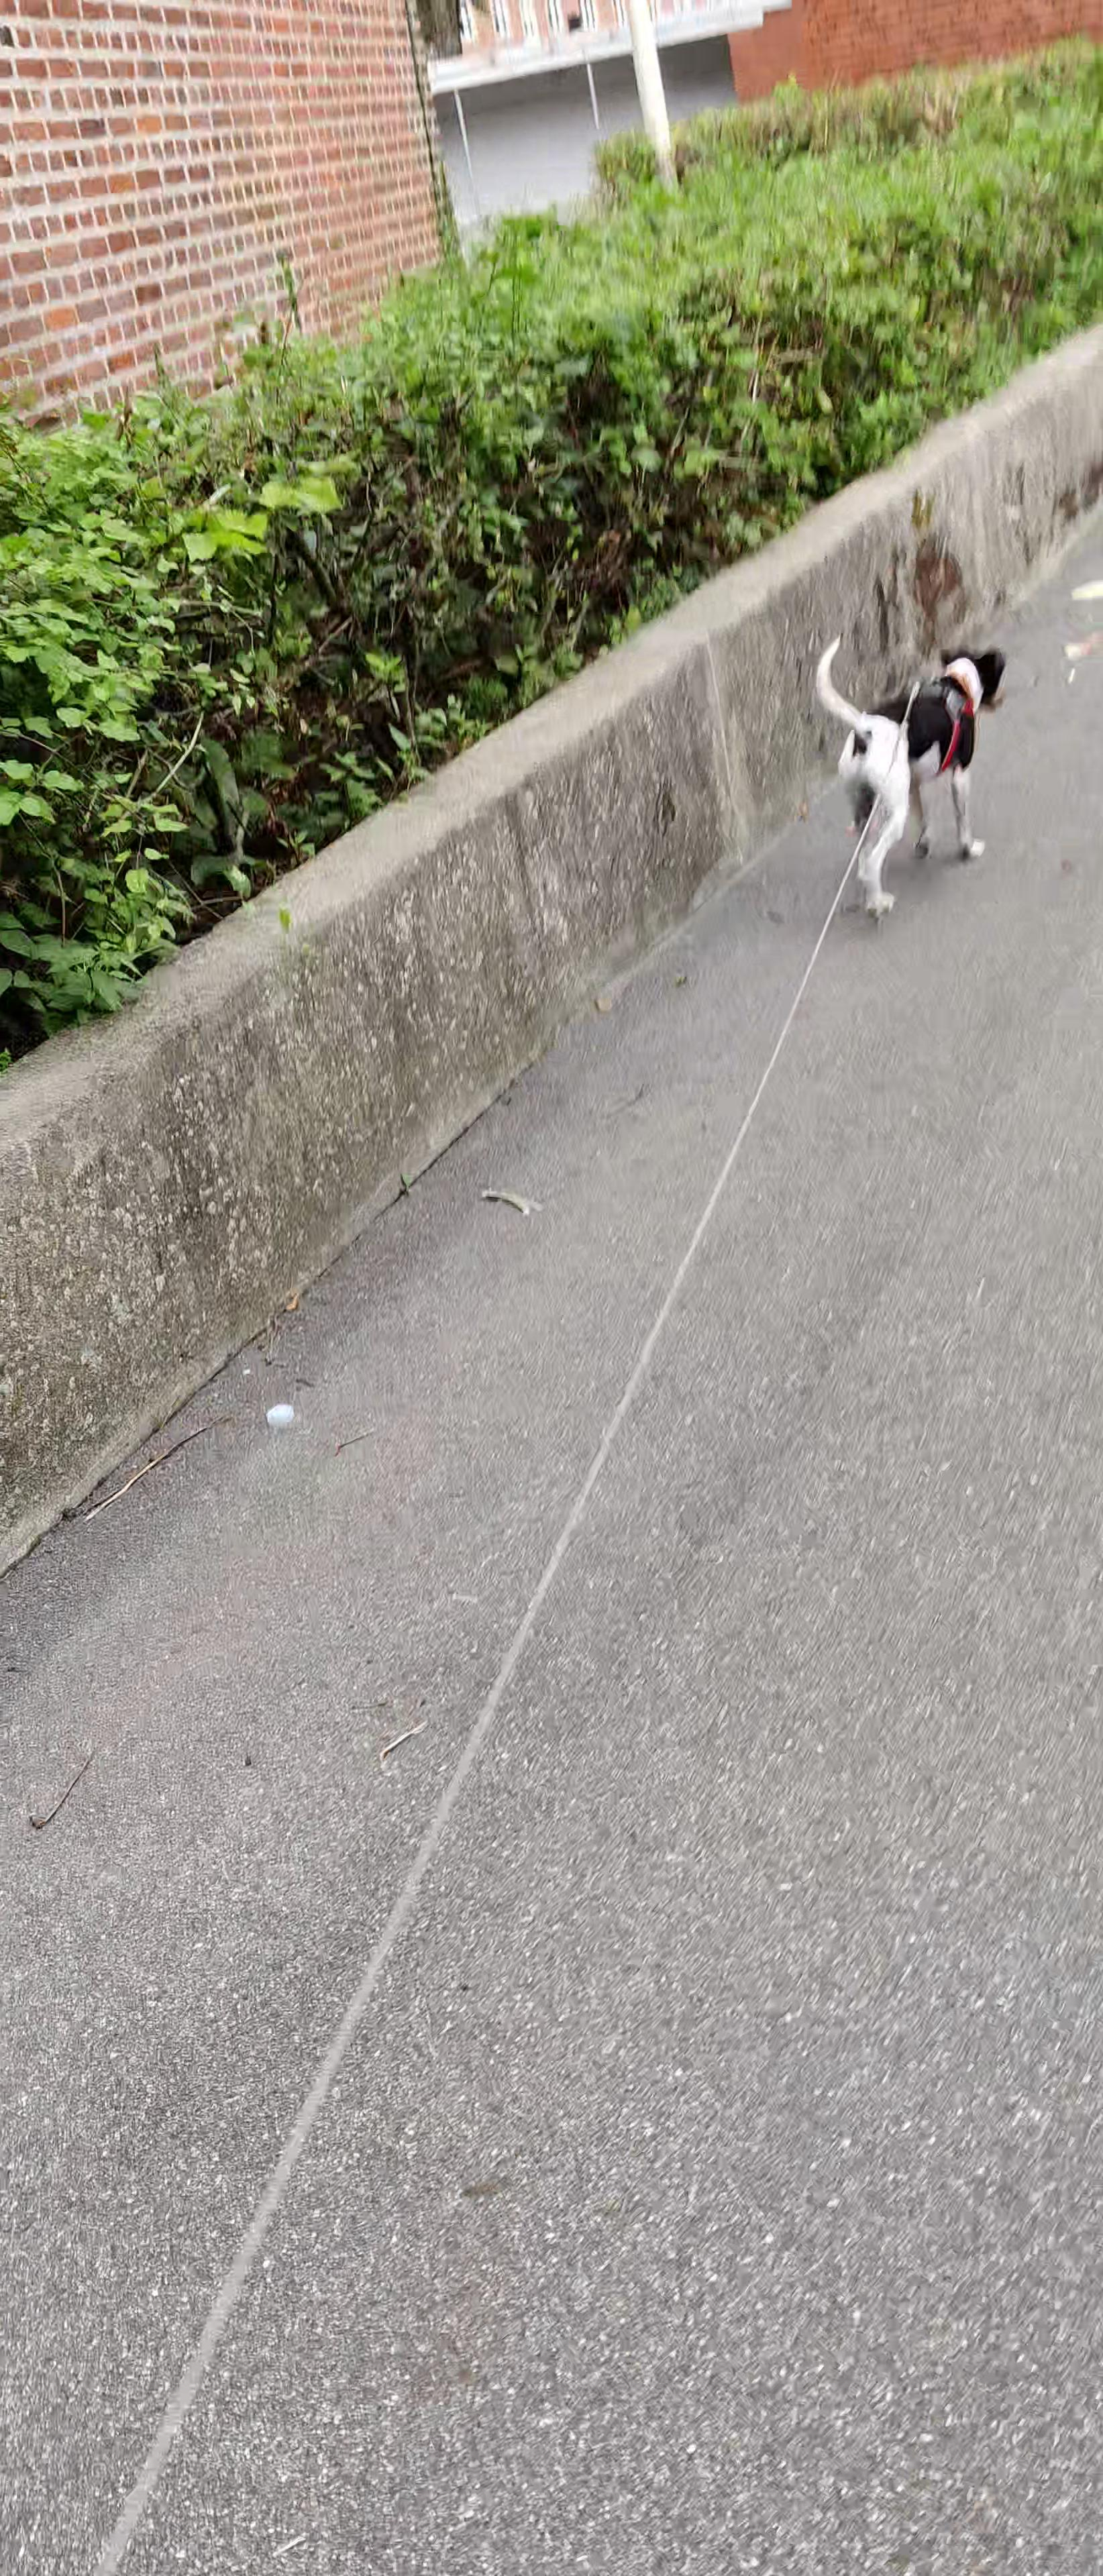Dog: (809, 618, 1011, 927)
